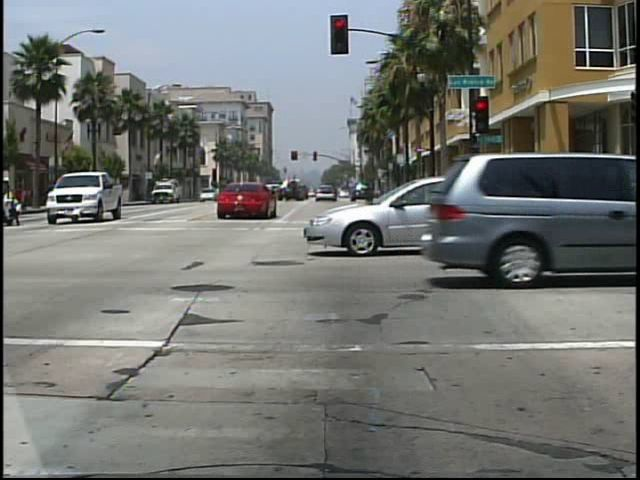person: (2, 172, 27, 229)
